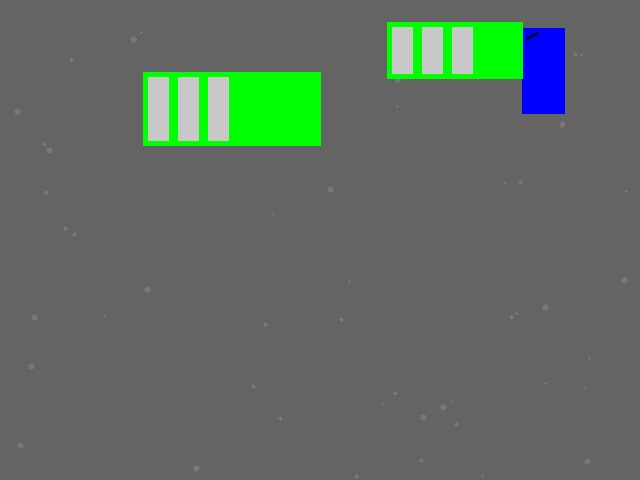bus: (143, 72, 320, 145), (387, 22, 522, 78)
car: (204, 105, 278, 142)
motorcycle: (522, 28, 564, 113)
